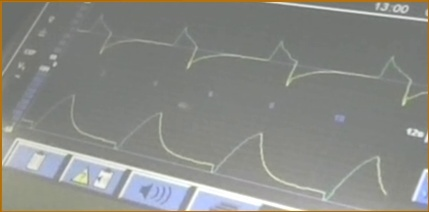Flow: (78, 10, 426, 107)
Leakage Volume: (22, 94, 387, 201)
